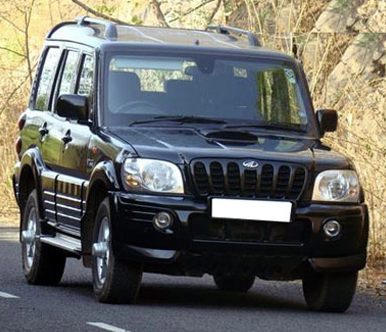car: (10, 16, 372, 318)
